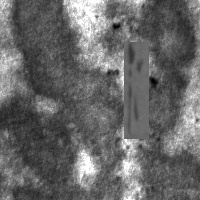inclusion: (124, 42, 149, 139)
patches: (60, 65, 133, 200), (125, 1, 196, 131), (7, 1, 85, 109), (1, 87, 67, 193), (135, 136, 197, 200)
